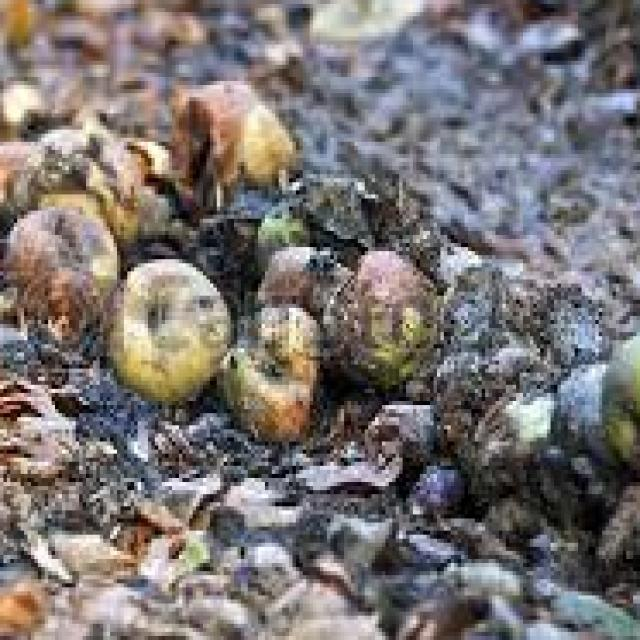inorganic: (6, 9, 622, 630)
